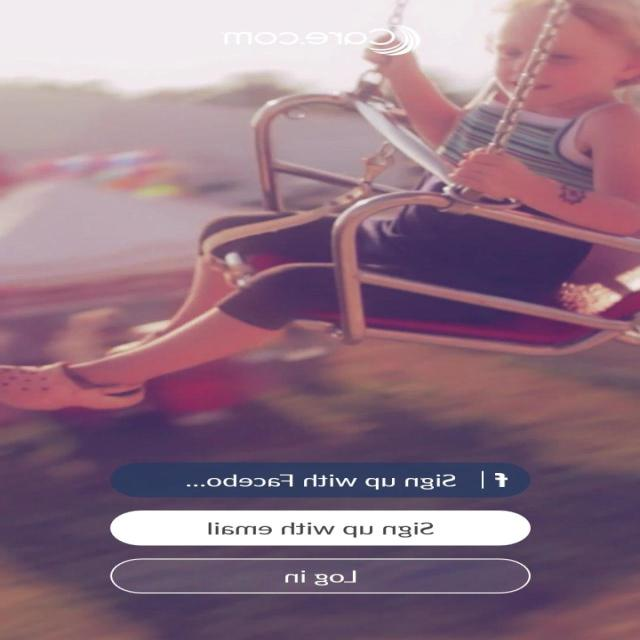BackgroundImage: (1, 0, 640, 639)
Image: (220, 24, 422, 56)
TextButton: (110, 558, 532, 594), (110, 510, 532, 546), (111, 462, 532, 497)
